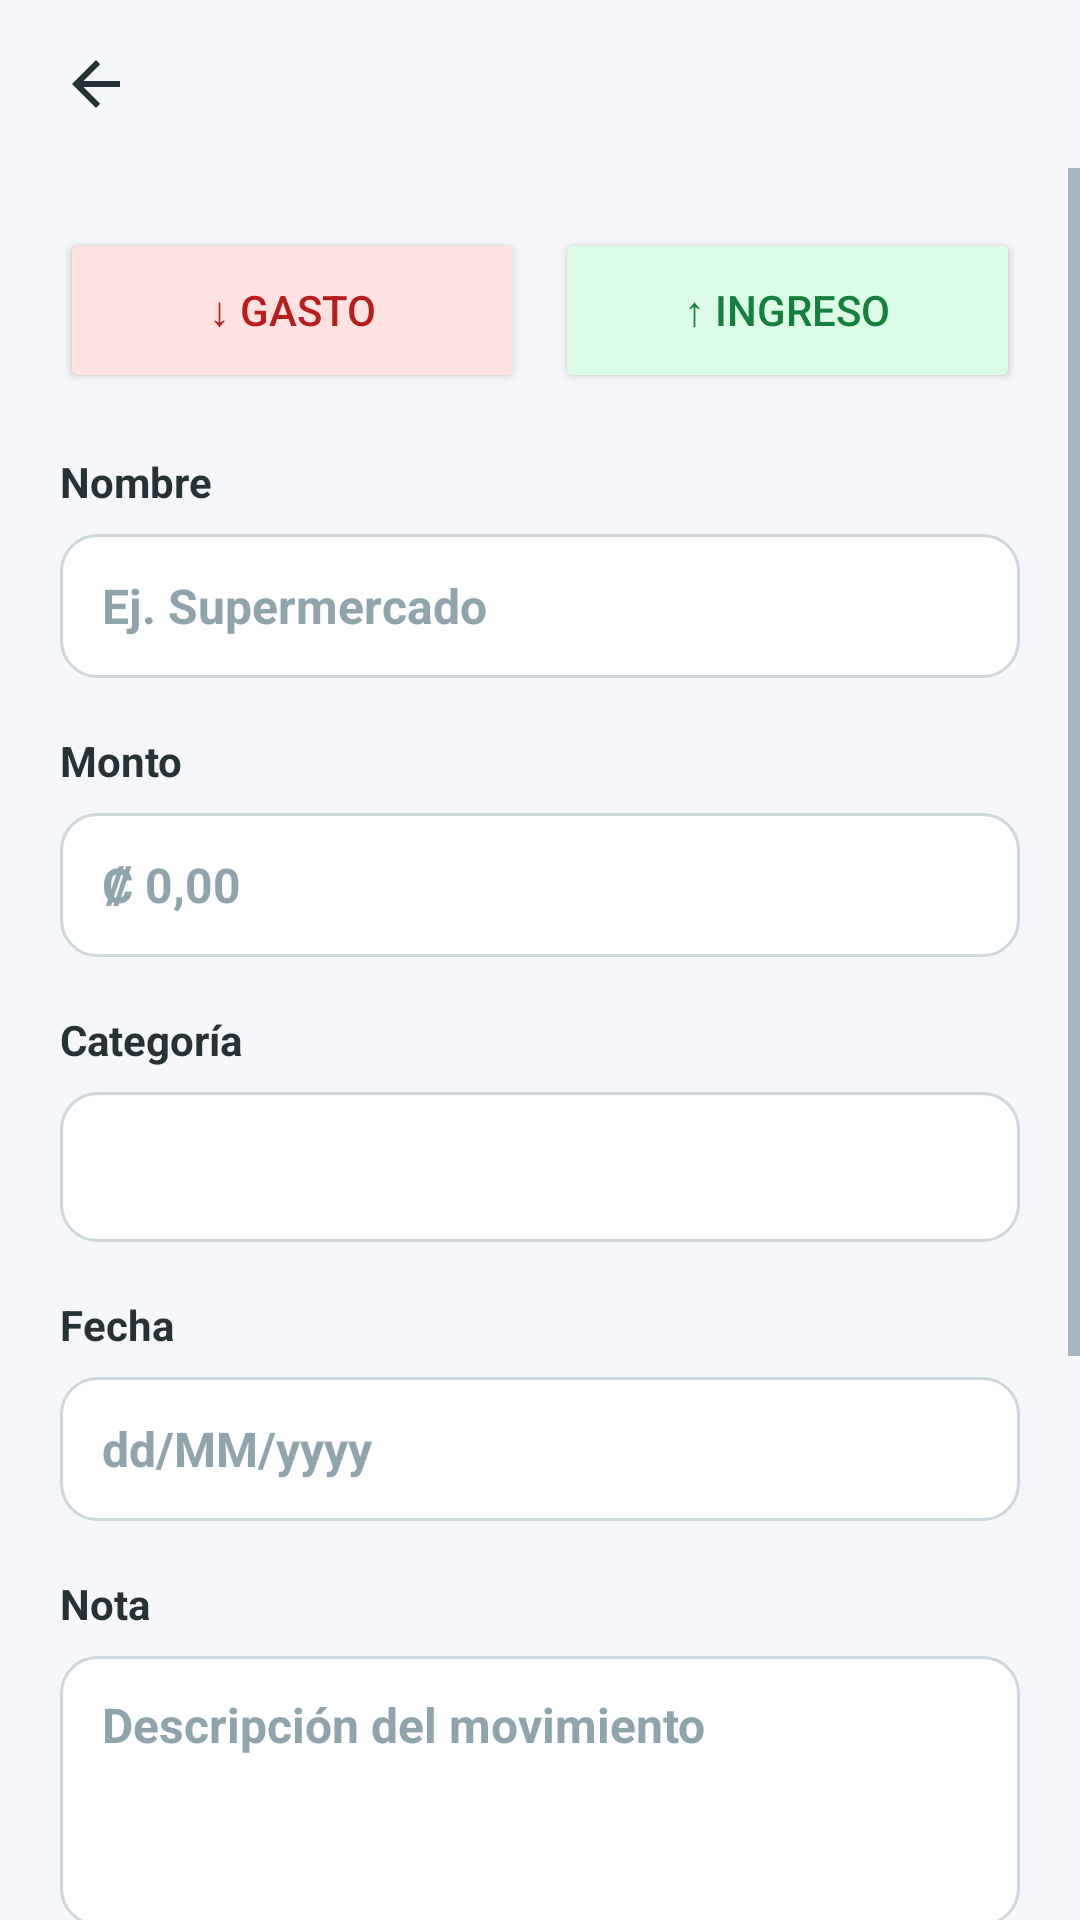

Icons on this 1080 x 1920 Android screen, each with the point to tap as (x=x, y=y):
Volver: (x=96, y=84)
